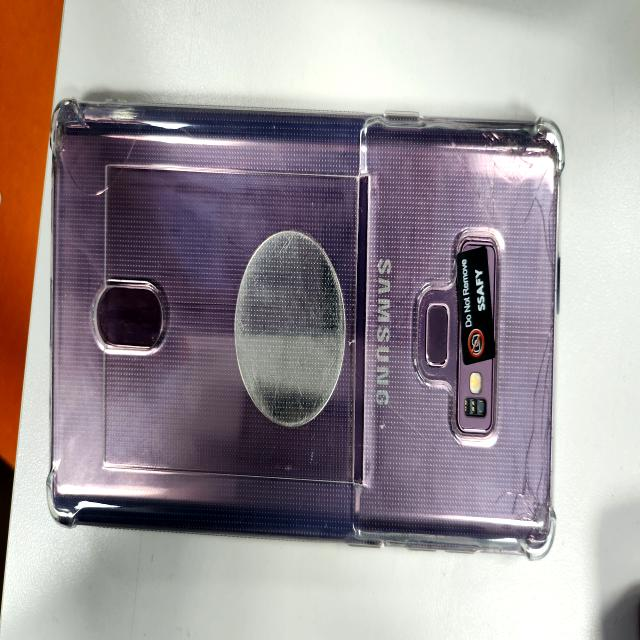phone: (52, 102, 560, 564)
sticker: (456, 250, 495, 364)
